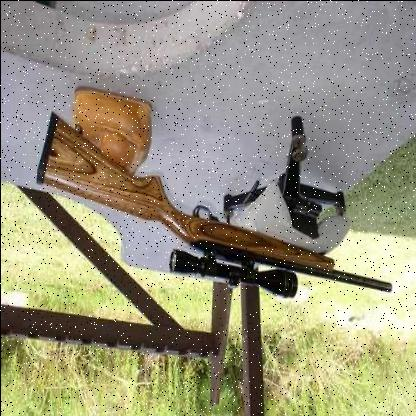rifle: (21, 80, 395, 304)
